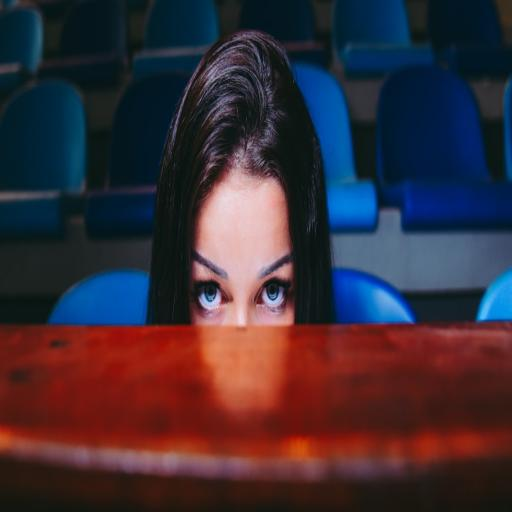face: (191, 171, 295, 325)
